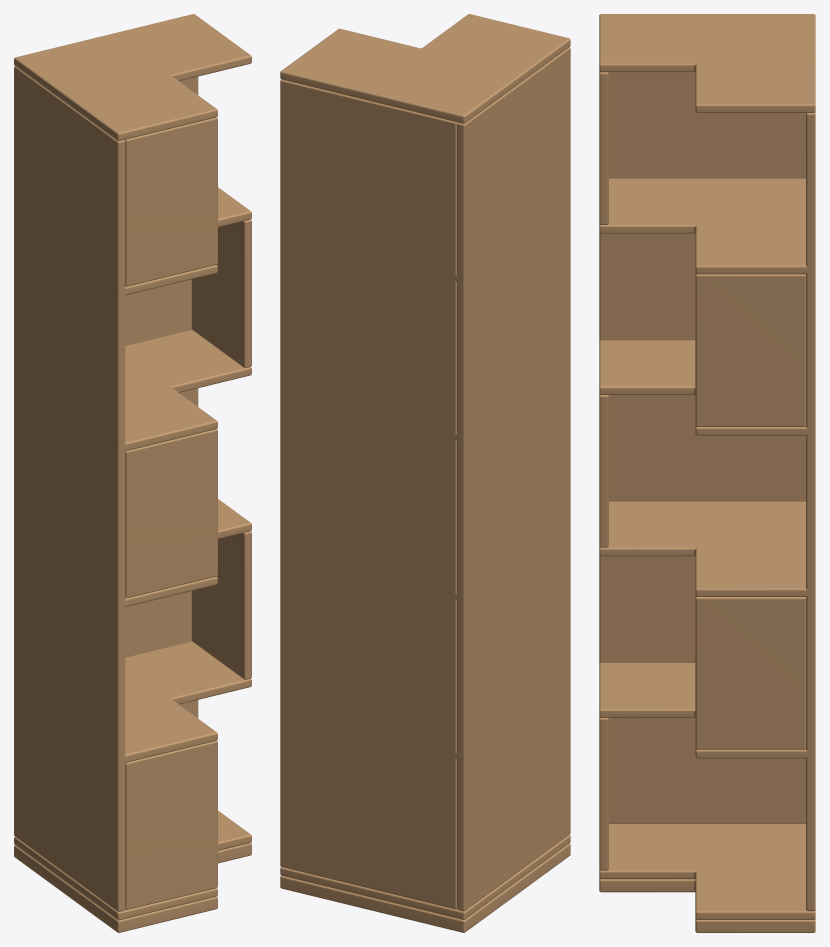
File: corner-bookcase-v1.glb
3 views of the same model, side by side, from view 1: azimuth 30°, elevation 25°; view 2: azimuth 150°, elevation 25°; view 3: azimuth 270°, elevation 25° (orthographic). The views are drawn at different scales.
Parts seen in each view (by area): view 1: back-x, shelf-5, end-0, end-4, end-2, shelf-3, shelf-1, back-z, end-3, end-1, base, shelf-0 (+2 smaller); view 2: back-z, back-x, shelf-5, base, shelf-0; view 3: back-x, shelf-5, end-1, end-3, shelf-0, shelf-4, shelf-2, back-z, shelf-1, shelf-3, base, end-0 (+2 smaller).
Boxes of the visible parts, <box> form: back-x: <box>14,66,125,911</box>; shelf-5: <box>14,14,251,141</box>; end-0: <box>125,740,217,909</box>; end-4: <box>125,117,217,286</box>; end-2: <box>125,429,217,598</box>; shelf-3: <box>83,330,251,451</box>; shelf-1: <box>14,641,251,763</box>; back-z: <box>125,76,198,718</box>; end-3: <box>191,219,251,368</box>; end-1: <box>191,531,251,679</box>; base: <box>14,843,251,932</box>; shelf-0: <box>14,810,251,920</box>; back-z: <box>280,79,457,909</box>; back-x: <box>457,47,570,911</box>; shelf-5: <box>280,14,570,123</box>; base: <box>280,843,570,932</box>; shelf-0: <box>280,834,570,919</box>; back-x: <box>599,72,805,823</box>; shelf-5: <box>599,14,815,112</box>; end-1: <box>695,596,805,749</box>; end-3: <box>695,273,805,426</box>; shelf-0: <box>599,823,815,919</box>; shelf-4: <box>599,178,815,274</box>; shelf-2: <box>599,501,815,596</box>; back-z: <box>806,112,815,911</box>; shelf-1: <box>599,663,815,758</box>; shelf-3: <box>599,340,815,435</box>; base: <box>599,878,815,932</box>; end-0: <box>599,717,608,870</box>.
Size of the model in its own units: 0.45 by 1.9 by 0.45.
